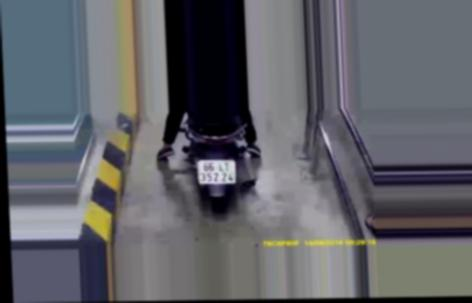License_Plate: (191, 156, 240, 186)
